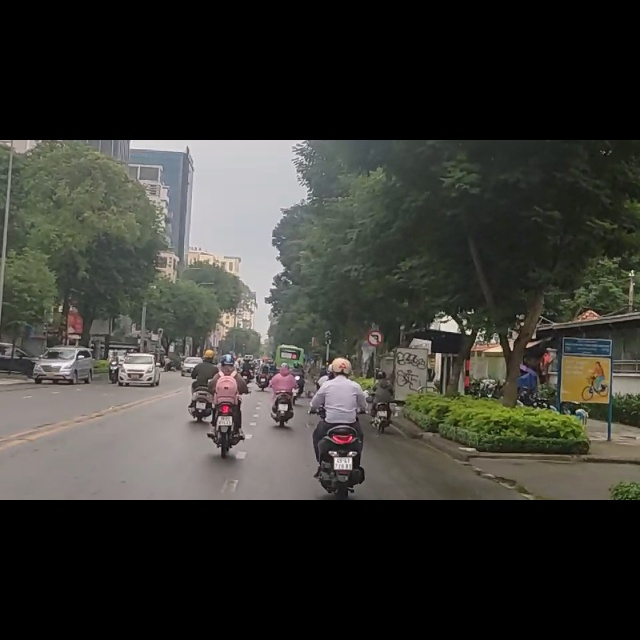bien_cam: (367, 339, 383, 365)
